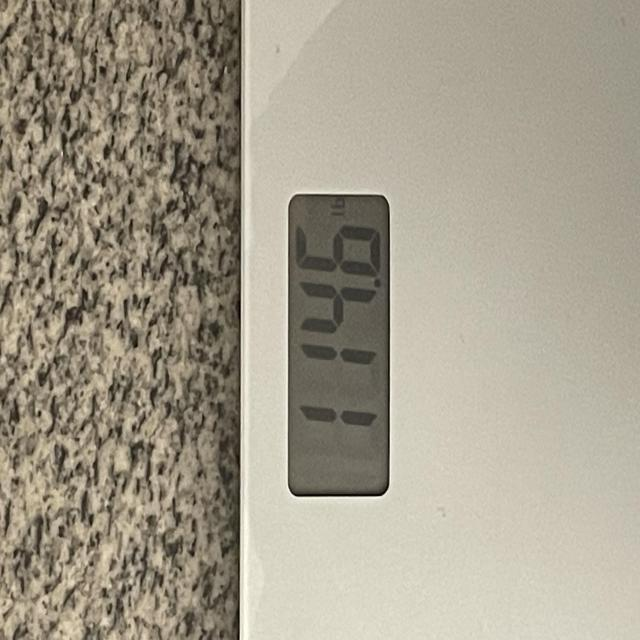ws: (238, 0, 640, 640)
